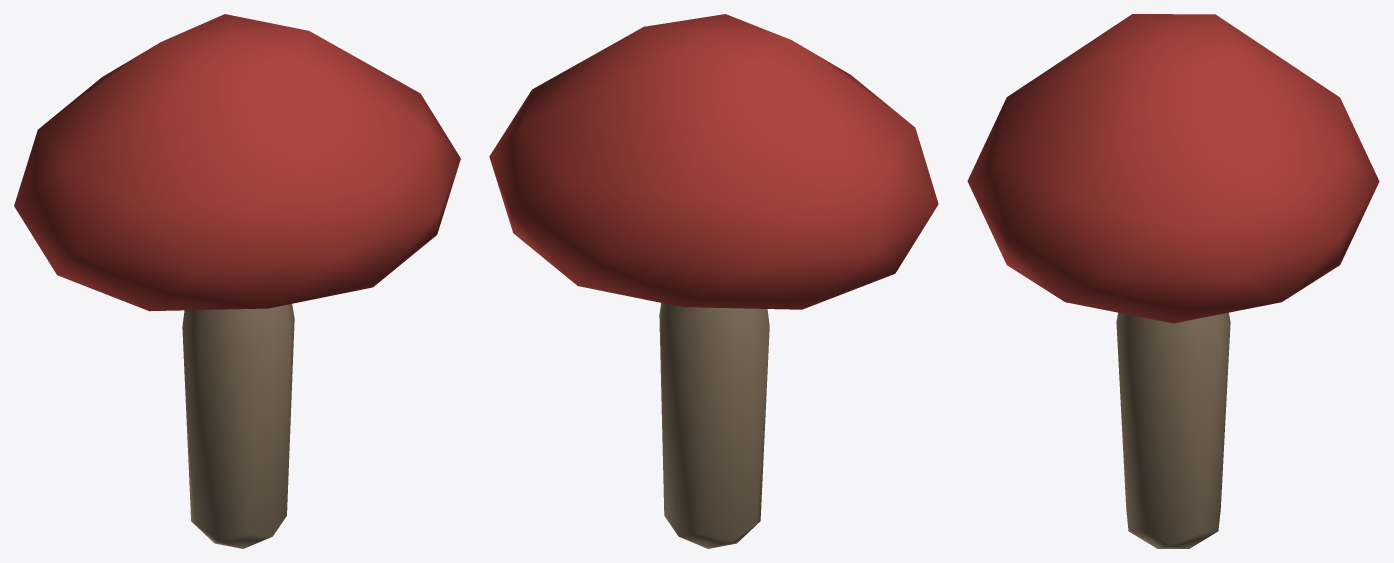
Rendered from sieni3.fbx.
3 renders of one model, left to right at view 1: azimuth 30°, elevation 25°; view 2: azimuth 150°, elevation 25°; view 3: azimuth 270°, elevation 25°, orthographic.
Visible parts, largest first — view 1: Icosphere.002; view 2: Icosphere.002; view 3: Icosphere.002.
Part boxes in pixels (bbox=[...]): Icosphere.002: bbox=[14, 14, 460, 548]; Icosphere.002: bbox=[489, 14, 938, 548]; Icosphere.002: bbox=[967, 14, 1379, 548].
Bounding box in the file's own units: 94.73 × 118 × 87.47.
